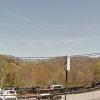Car: (2, 80, 22, 100)
